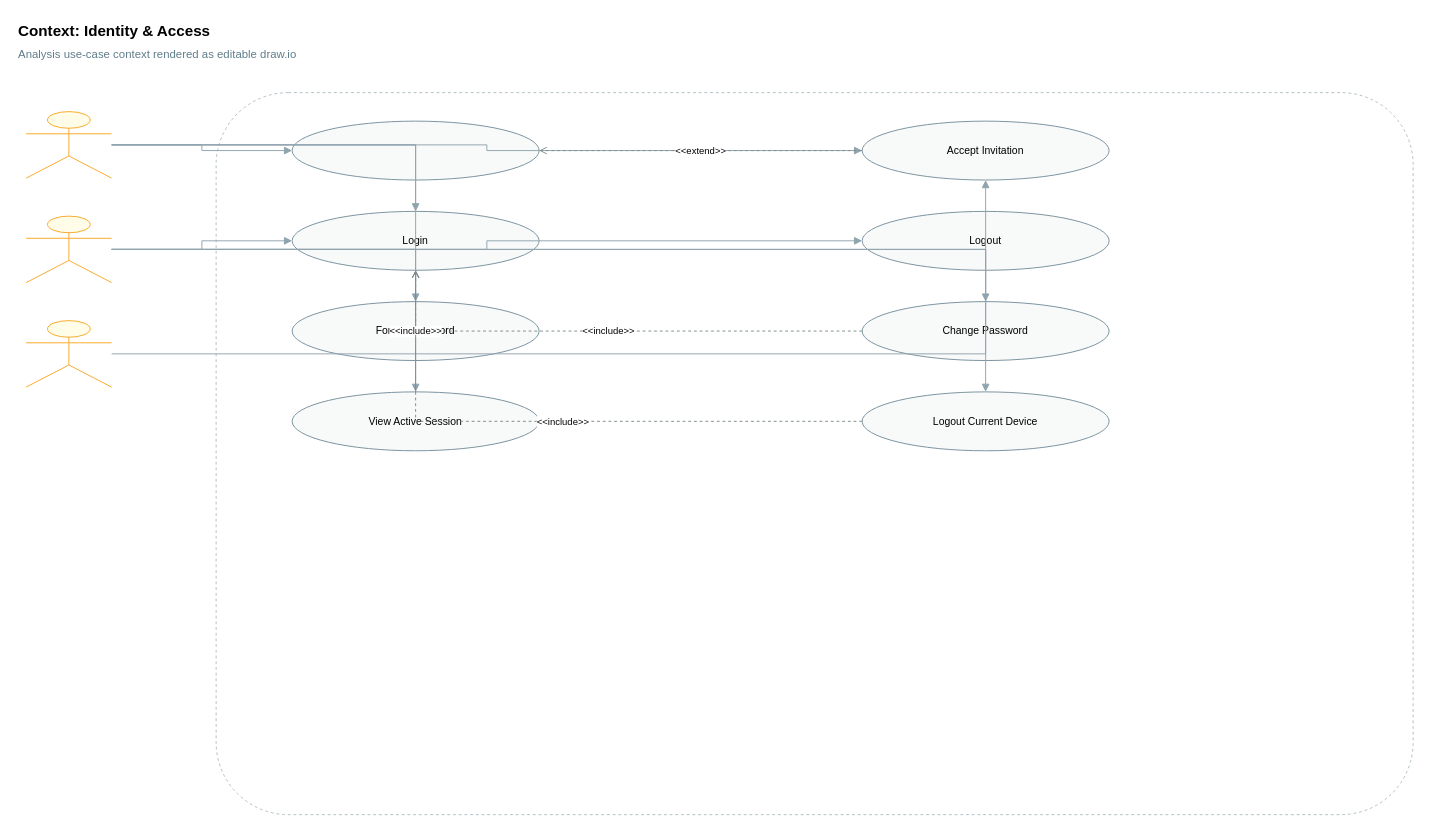
This 1430x831 diagram has some shape labels left out. Each missing label, with the centre of its shape:
"Guest / Invited User" goes at pixel 68 144.
"Member" goes at pixel 68 249.
"Register Account" goes at pixel 415 150.
"Tenant Admin" goes at pixel 68 353.
